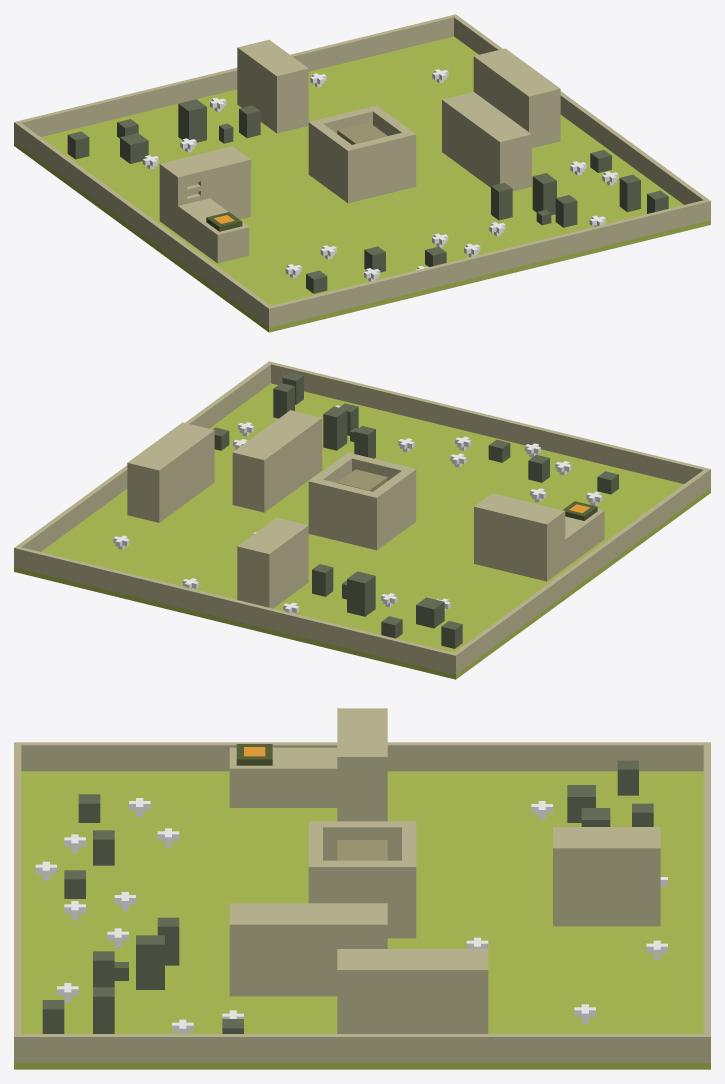
File: MapModel.obj
The picture shows the model from 3 angles, top to bottom: view 1: azimuth 30°, elevation 25°; view 2: azimuth 150°, elevation 25°; view 3: azimuth 270°, elevation 25°; orthographic projection. The views are drawn at different scales.
Size of the model in its own units: 97 by 13 by 97.
Materials: 1 (1 with a texture image).
